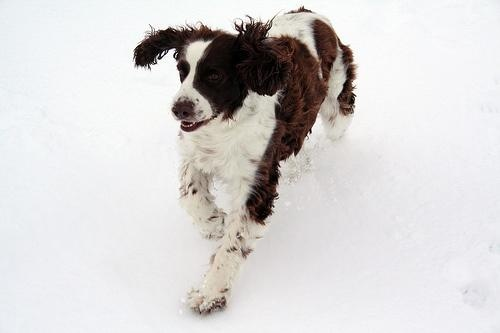dog: (135, 6, 358, 323)
